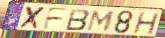8: (113, 10, 134, 35)
B: (65, 8, 91, 32)
F: (41, 7, 71, 31)
H: (132, 12, 161, 36)
M: (85, 10, 116, 32)
X: (19, 6, 48, 31)
